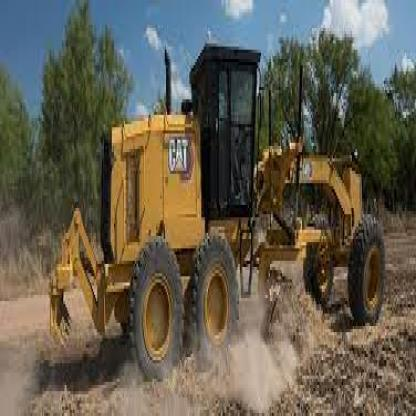bull_dozer/loader/grader: (36, 31, 390, 407)
